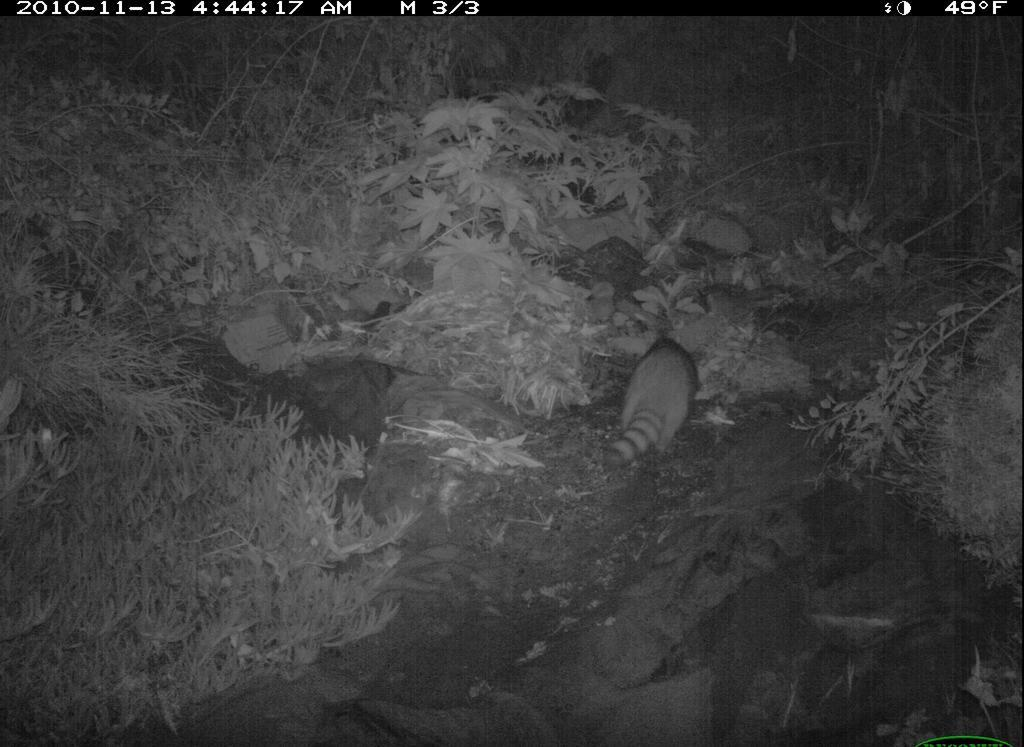raccoon: (602, 310, 717, 496)
